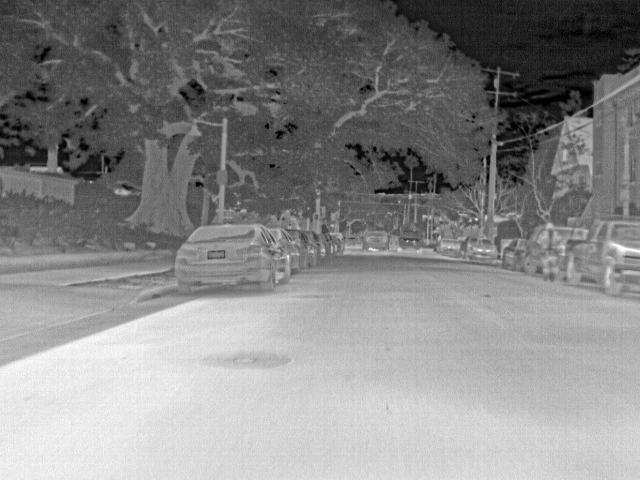car: (176, 224, 292, 295), (565, 219, 640, 297), (268, 227, 304, 274), (522, 224, 544, 275), (463, 236, 500, 264), (286, 230, 312, 267), (361, 228, 392, 251), (502, 237, 524, 269), (435, 236, 464, 259), (397, 227, 424, 251), (306, 230, 322, 264), (557, 227, 587, 242), (319, 233, 335, 258), (331, 231, 344, 252)
person: (541, 220, 560, 282)
